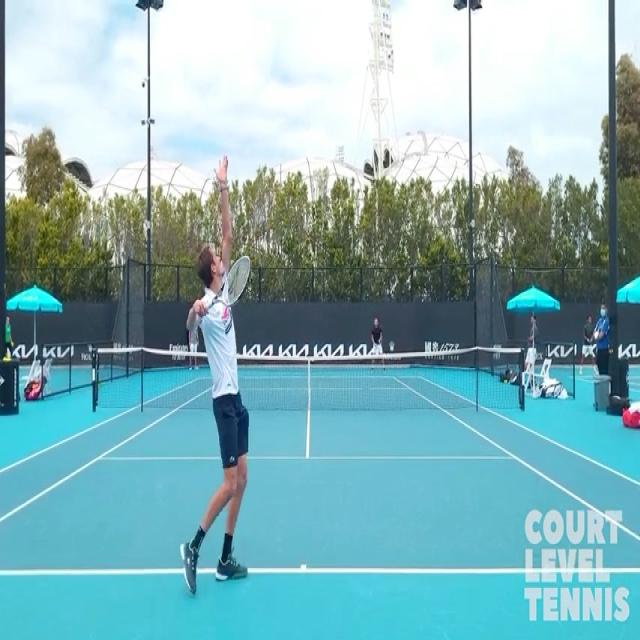serve_hit: (162, 160, 286, 588)
